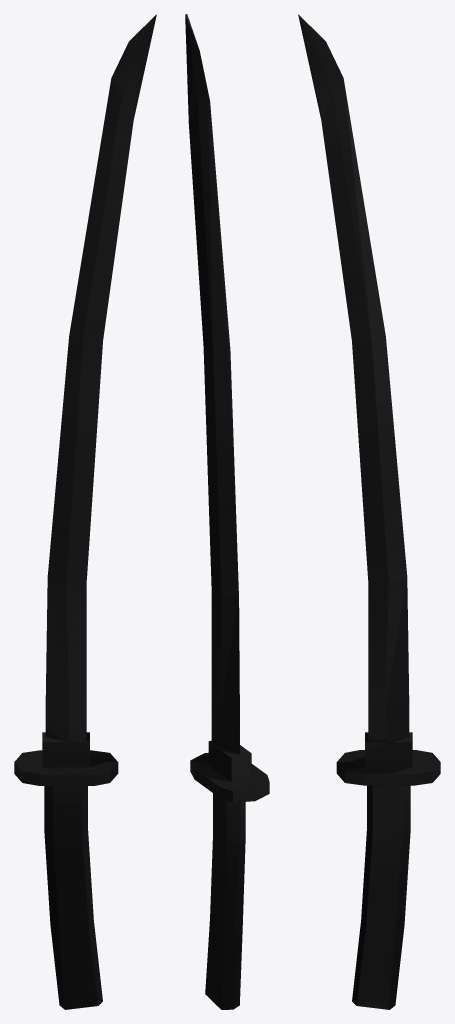
File: Sam_Sword.glb
3 views of the same model, side by side, from view 1: azimuth 90°, elevation 25°; view 2: azimuth 210°, elevation 25°; view 3: azimuth 270°, elevation 25° (orthographic). The views are drawn at different scales.
Parts seen in each view (by area): view 1: Cube; view 2: Cube; view 3: Cube.
Boxes of the visible parts, left/top/right/bottom form: Cube: left=14, top=14, right=156, bottom=1009; Cube: left=185, top=14, right=269, bottom=1009; Cube: left=298, top=14, right=440, bottom=1009.
Bounding box in the file's own units: 0.5579 × 10.72 × 1.4.
1 material, 1 textured.
